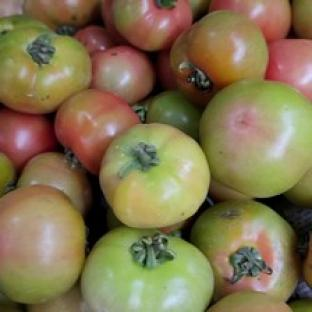Tomato: (200, 80, 311, 197), (99, 123, 210, 228), (81, 226, 213, 311), (190, 200, 300, 300), (0, 186, 86, 303), (0, 27, 91, 114), (55, 88, 140, 175), (179, 10, 268, 91), (17, 151, 93, 215), (0, 106, 58, 172), (170, 28, 218, 107), (91, 45, 155, 104), (265, 38, 311, 100), (145, 90, 201, 140), (27, 282, 89, 311), (207, 290, 292, 311), (74, 24, 116, 55), (0, 14, 48, 37), (283, 169, 311, 207), (208, 177, 252, 201), (155, 49, 176, 90), (0, 151, 18, 196), (303, 232, 311, 288), (289, 299, 311, 311)
